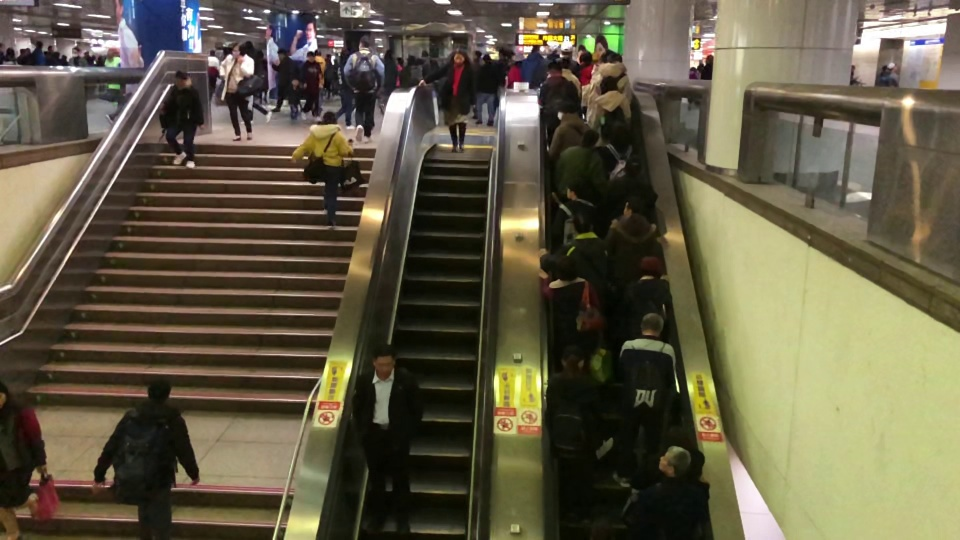person_head: (654, 446, 692, 479), (371, 344, 397, 379), (144, 377, 172, 406), (607, 121, 633, 151), (565, 174, 590, 203), (559, 344, 584, 372), (554, 254, 577, 283), (572, 208, 594, 235), (639, 312, 663, 336), (638, 254, 661, 278), (623, 152, 644, 177), (557, 99, 578, 121), (622, 196, 644, 217), (579, 128, 600, 149), (597, 75, 619, 95), (173, 70, 194, 90), (599, 48, 622, 65), (318, 110, 338, 126), (0, 380, 10, 409), (545, 61, 563, 77), (450, 50, 466, 65), (559, 40, 574, 56), (231, 42, 245, 57), (578, 51, 592, 66), (243, 40, 254, 57), (557, 56, 571, 69), (339, 49, 350, 65), (358, 35, 369, 50), (4, 47, 16, 60), (383, 49, 394, 61), (481, 52, 491, 65), (70, 47, 81, 58), (406, 55, 417, 66), (530, 45, 541, 56), (277, 48, 287, 60), (305, 51, 315, 63), (472, 49, 482, 61), (885, 62, 897, 72), (106, 49, 116, 60), (704, 54, 713, 66), (34, 40, 43, 50), (290, 78, 299, 88), (395, 56, 404, 66), (256, 48, 264, 59), (324, 53, 332, 63), (314, 48, 322, 57), (421, 49, 429, 58), (514, 59, 522, 68), (688, 66, 696, 74), (47, 45, 54, 53), (209, 49, 216, 57)
person_vbox: (92, 377, 202, 540), (349, 344, 424, 540), (610, 312, 676, 490), (545, 344, 604, 527), (621, 445, 711, 540), (536, 254, 604, 373), (0, 379, 48, 540), (290, 110, 353, 230), (417, 49, 477, 153), (536, 208, 612, 279), (551, 128, 614, 209), (602, 196, 661, 280), (618, 253, 672, 344), (561, 48, 632, 116), (342, 35, 385, 144), (158, 70, 204, 170), (599, 152, 658, 223), (537, 61, 580, 150), (218, 41, 256, 141), (585, 74, 632, 145), (550, 174, 595, 247), (238, 40, 272, 126), (547, 99, 592, 161), (599, 120, 641, 182), (473, 52, 500, 126), (332, 49, 355, 130), (269, 47, 294, 112), (300, 51, 322, 120), (377, 49, 398, 115), (547, 40, 580, 80), (68, 47, 89, 105), (520, 45, 547, 89), (557, 56, 581, 99), (468, 49, 482, 120), (103, 49, 120, 104), (254, 48, 269, 106), (313, 48, 326, 107), (207, 49, 220, 102), (288, 78, 304, 119), (578, 51, 595, 86), (504, 59, 522, 89), (687, 66, 699, 111), (321, 53, 332, 101), (405, 55, 422, 86), (28, 39, 46, 65), (881, 61, 899, 87), (700, 53, 713, 80), (1, 47, 19, 65), (394, 56, 404, 88), (421, 49, 431, 74), (44, 45, 55, 65)
